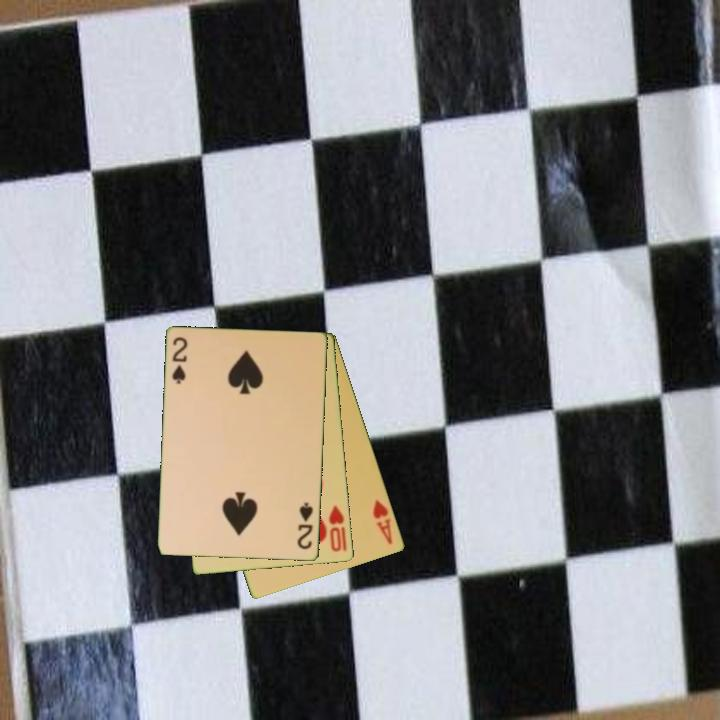10h: (326, 502, 350, 555)
2s: (294, 499, 316, 552), (169, 334, 190, 387)
Ah: (370, 496, 396, 548)
